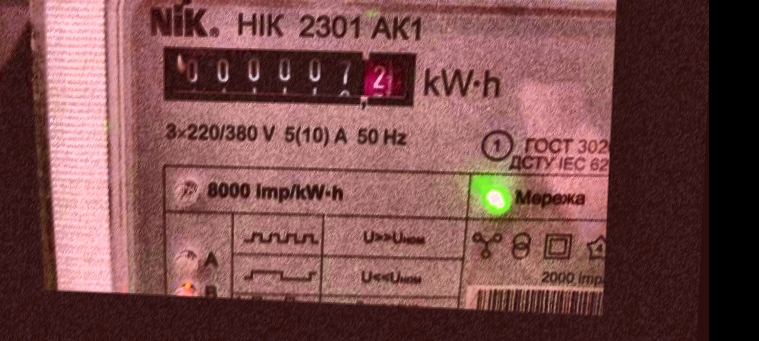0: (243, 55, 262, 83), (182, 56, 200, 84), (213, 56, 231, 84), (305, 55, 322, 84), (275, 54, 291, 82)
2: (370, 62, 387, 92)
7: (335, 57, 352, 87)
screen: (152, 33, 428, 117)
